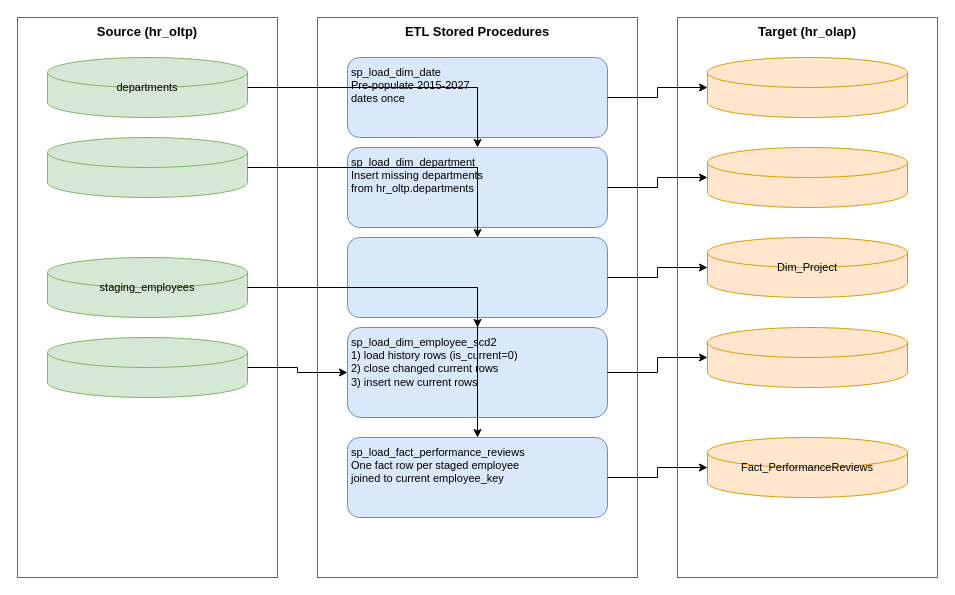
Image size: 955x595. Some labels were removed from this diagram. Here are the shapes that lost their labels. From the top down, the centre of each, then its label:
At (x=807, y=87): "Dim_Date".
At (x=147, y=167): "projects".
At (x=807, y=177): "Dim_Department".
At (x=477, y=277): "sp_load_dim_project Insert missing projects from hr_oltp.projects".
At (x=147, y=367): "staging_employee_history".
At (x=807, y=357): "Dim_Employee".
